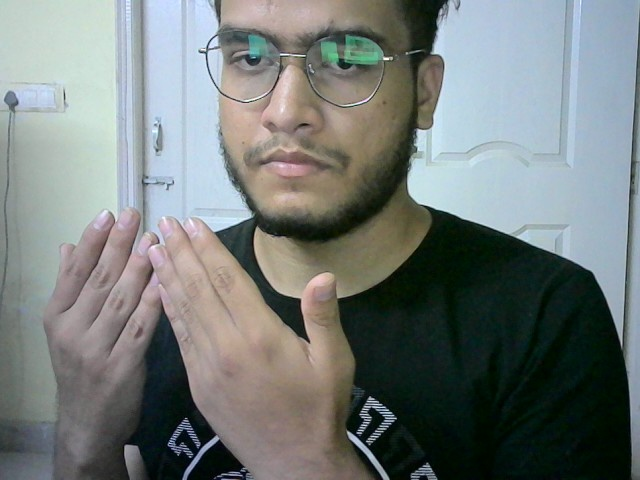Thank You: (39, 201, 370, 451)
